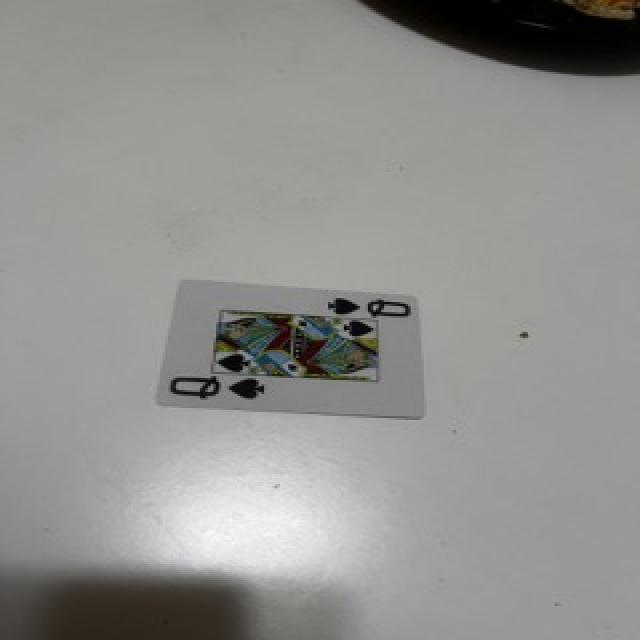Queen of spades: (157, 280, 423, 419)
